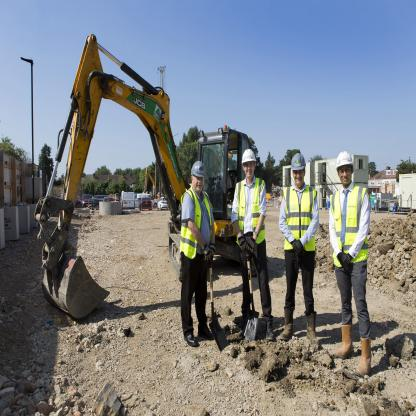person: (325, 134, 380, 382), (176, 154, 228, 362), (276, 133, 320, 351), (231, 139, 275, 344)
